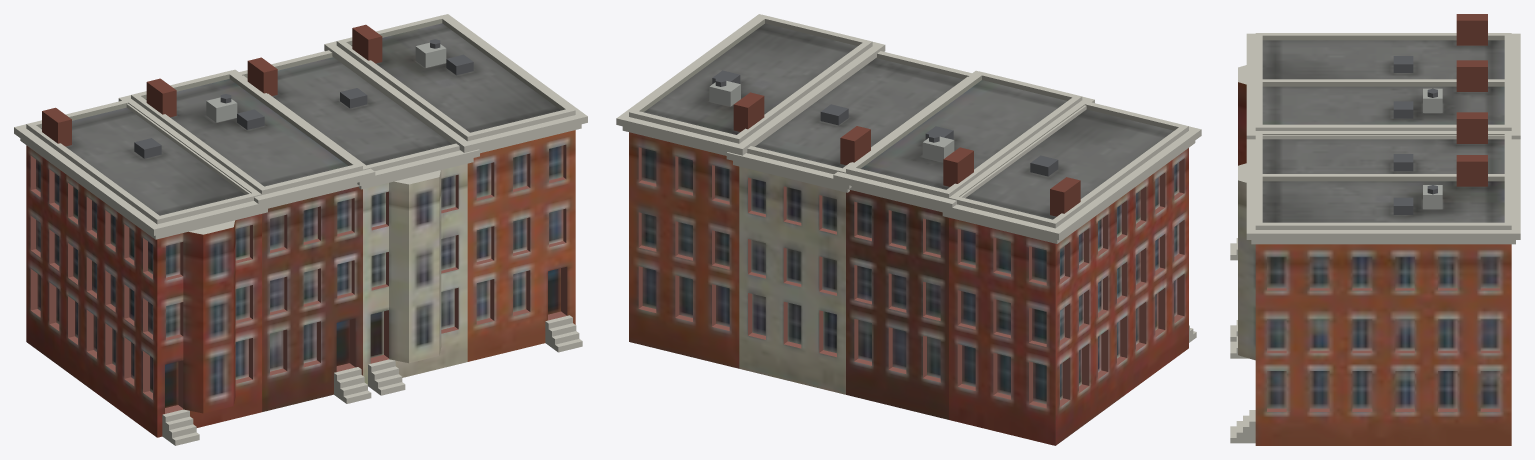
The model's file is dc_brick_row_a.glb.
The picture shows the model from 3 angles, left to right: view 1: azimuth 30°, elevation 25°; view 2: azimuth 150°, elevation 25°; view 3: azimuth 270°, elevation 25°; orthographic projection. The views are drawn at different scales.
Parts seen in each view (by area): view 1: dc_brick_row_a; view 2: dc_brick_row_a; view 3: dc_brick_row_a.
Part boxes in pixels (box(x1,y1,x2,y2)): dc_brick_row_a: box(14, 14, 587, 445); dc_brick_row_a: box(616, 14, 1201, 445); dc_brick_row_a: box(1230, 14, 1520, 445).
Bounding box in the file's own units: 24.9 × 13.5 × 14.73.
Materials: 1 (1 with a texture image).
